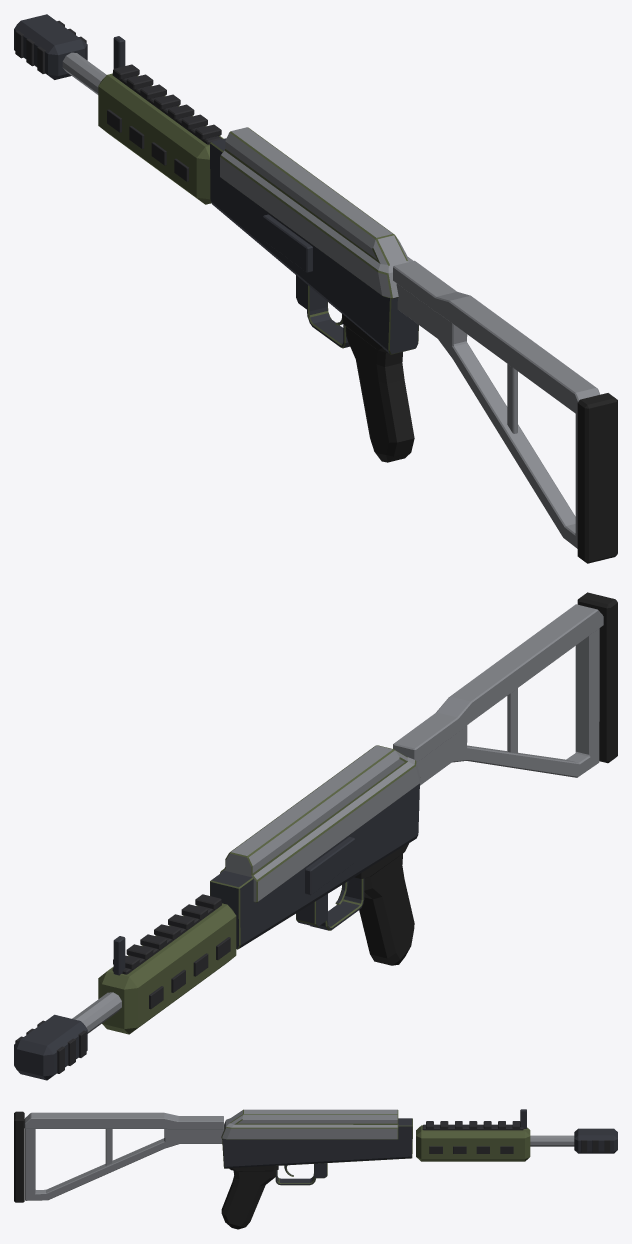
The model's file is carbine.glb.
3 views of the same model, one above another, from view 1: azimuth 30°, elevation 25°; view 2: azimuth 150°, elevation 25°; view 3: azimuth 270°, elevation 25° (orthographic). The views are drawn at different scales.
Parts seen in each view (by area): view 1: carbine; view 2: carbine; view 3: carbine.
Boxes of the visible parts, left/top/right/bottom form: carbine: left=14, top=14, right=617, bottom=563; carbine: left=14, top=592, right=617, bottom=1080; carbine: left=14, top=1109, right=617, bottom=1229.
Size of the model in its own units: 0.0309 by 0.1415 by 0.66.
